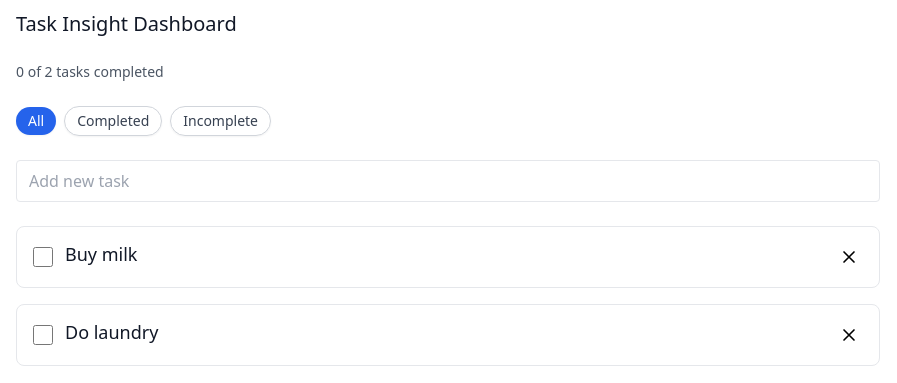
<App /> › task title editing › pressing Escape cancels editing and restores original title
The width and height of the screenshot is (897, 383).
// Enter edit mode
Click the heading "Buy milk".
click(101, 254)  # box [65,242,137,266]
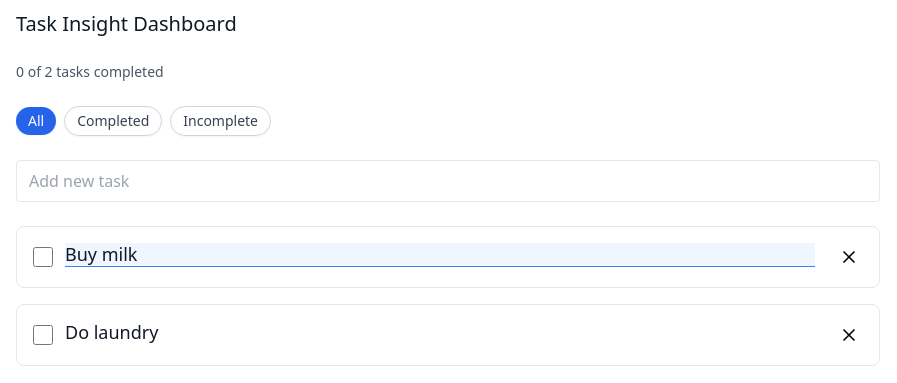
// Action: change value and press Escape
Replace the text in the field named "Edit task title" with "Buy oat milk" at [440, 255], box [65,243,815,266]
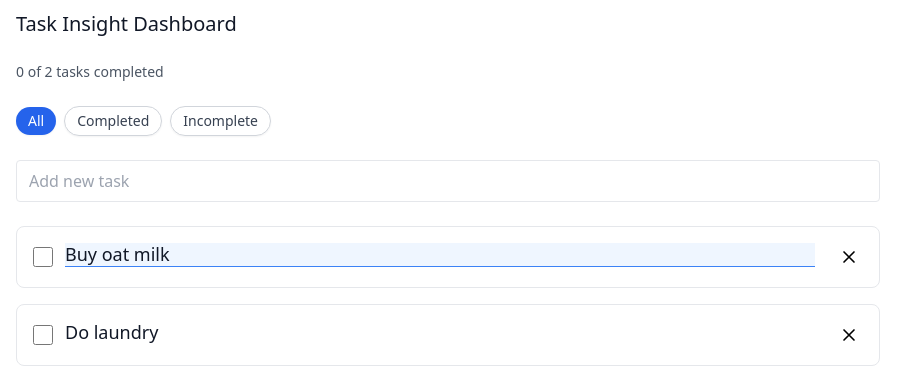
Press Escape
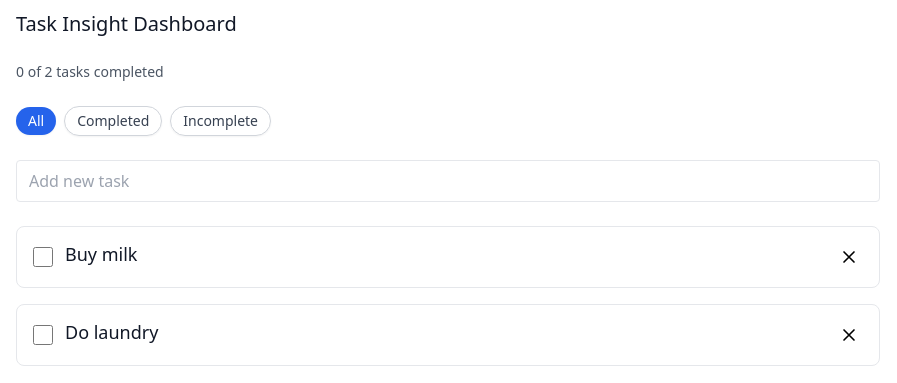
Expected: the heading "buy oat milk" is not shown
Now the heading "Buy milk" is shown, box [65,242,137,266]
